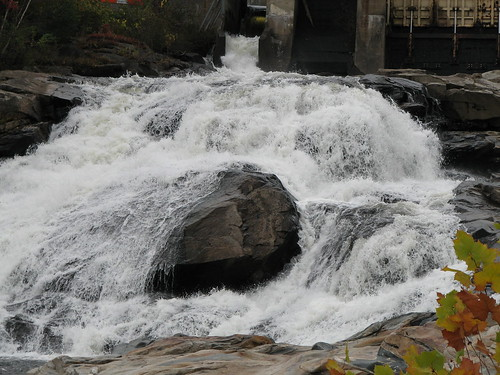rocks: (147, 156, 319, 294)
waterfall: (1, 70, 475, 337)
